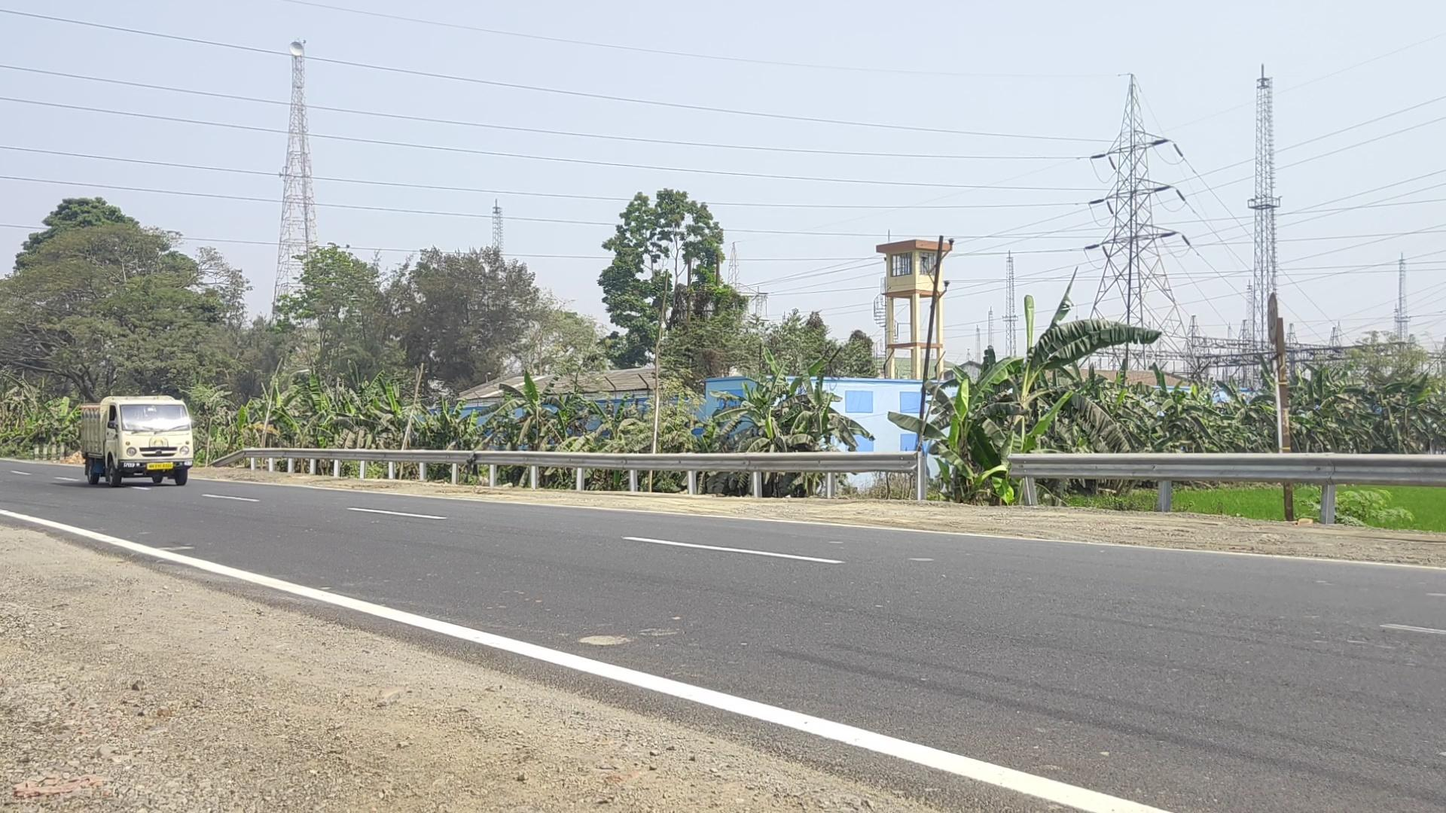van: (80, 395, 194, 488)
